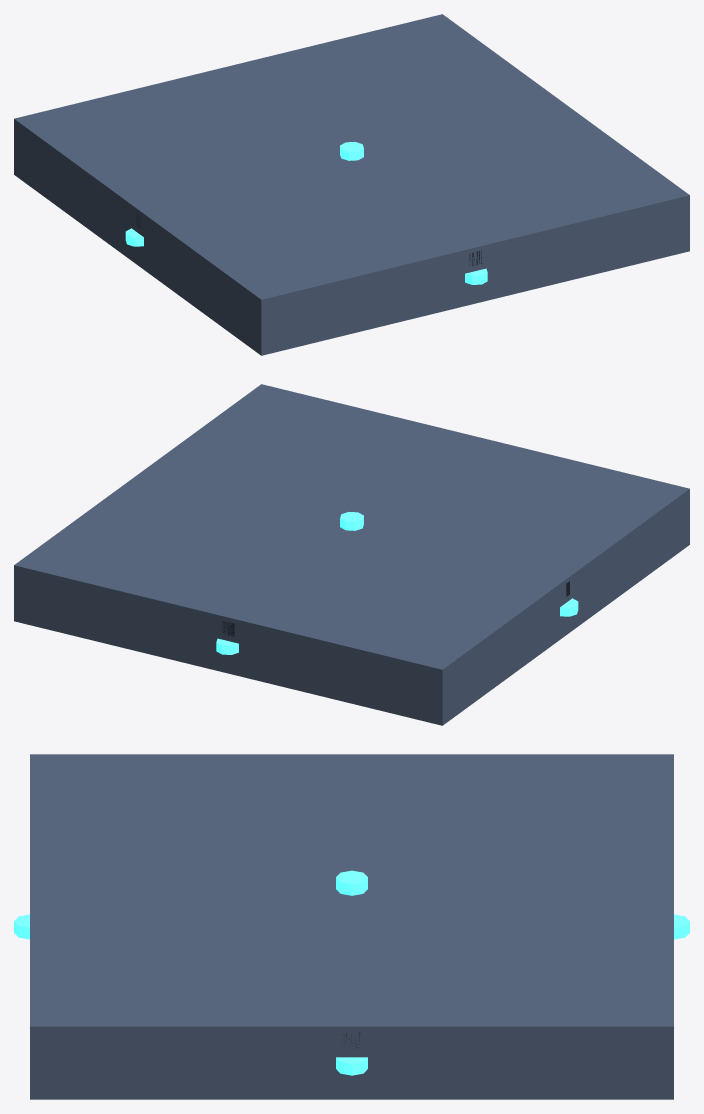
Rendered from mod_suelo_basico.fbx.
The picture shows the model from 3 angles, top to bottom: view 1: azimuth 30°, elevation 25°; view 2: azimuth 150°, elevation 25°; view 3: azimuth 270°, elevation 25°; orthographic projection. The views are drawn at different scales.
Parts seen in each view (by area): view 1: Suelo_basico, Suelo_basico_Conectores; view 2: Suelo_basico, Suelo_basico_Conectores; view 3: Suelo_basico, Suelo_basico_Conectores.
Part boxes in pixels (x1=…): Suelo_basico: x1=14, y1=14, x2=689, y2=355; Suelo_basico_Conectores: x1=125, y1=142, x2=487, y2=284; Suelo_basico: x1=14, y1=384, x2=689, y2=725; Suelo_basico_Conectores: x1=216, y1=512, x2=578, y2=654; Suelo_basico: x1=30, y1=754, x2=673, y2=1099; Suelo_basico_Conectores: x1=14, y1=870, x2=689, y2=1075.
Size of the model in its own units: 1.18 by 0.1764 by 1.18.
